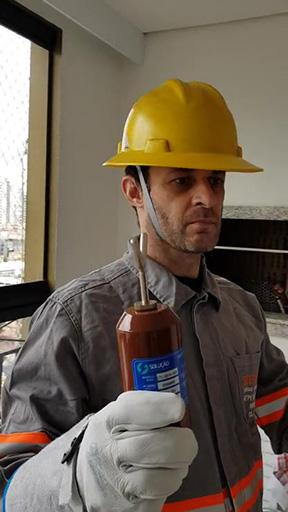Detector_Tensao_Contato: (113, 231, 192, 450)
